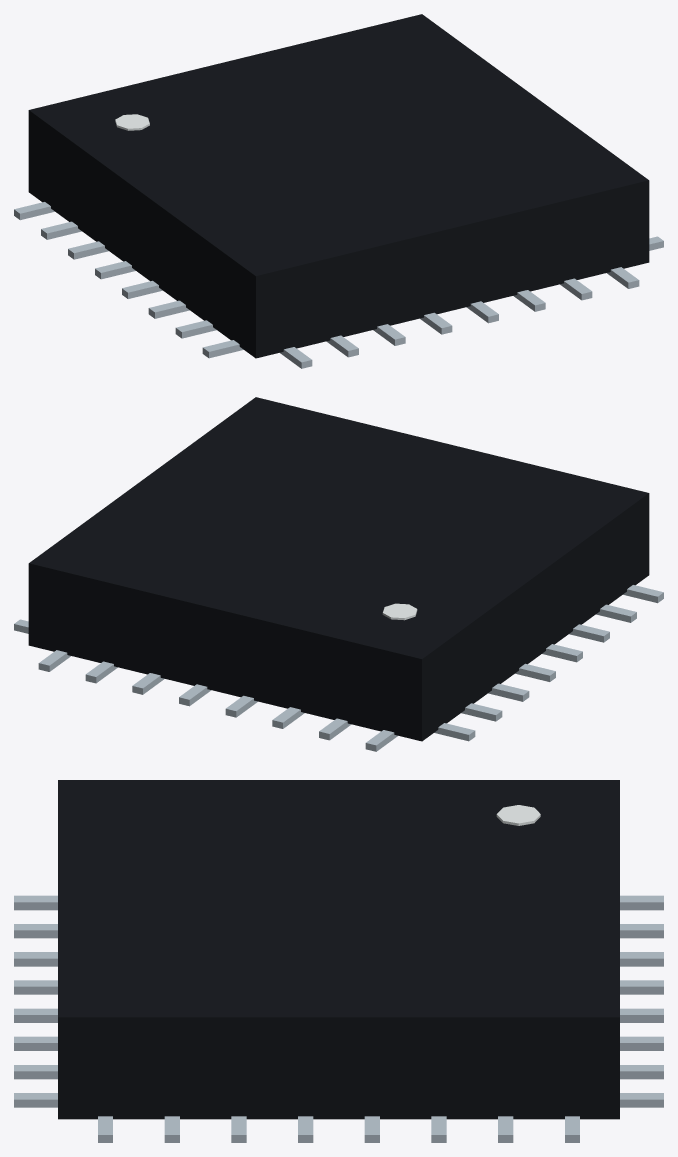
3 views of the same model, one above another, from view 1: azimuth 30°, elevation 25°; view 2: azimuth 150°, elevation 25°; view 3: azimuth 270°, elevation 25° (orthographic). The views are drawn at different scales.
Parts seen in each view (by area): view 1: 012_L106_U5_000; view 2: 012_L106_U5_000; view 3: 012_L106_U5_000, 012_L106_U5_033, 012_L106_U5_002, 012_L106_U5_004, 012_L106_U5_006, 012_L106_U5_008, 012_L106_U5_010, 012_L106_U5_012, 012_L106_U5_014, 012_L106_U5_016, 012_L106_U5_018, 012_L106_U5_020 (+6 smaller).
Boxes of the visible parts, <box> form: 012_L106_U5_000: <box>28,14,649,358</box>; 012_L106_U5_000: <box>28,397,649,741</box>; 012_L106_U5_000: <box>58,780,619,1119</box>; 012_L106_U5_033: <box>496,805,540,825</box>; 012_L106_U5_002: <box>14,895,57,910</box>; 012_L106_U5_004: <box>620,895,663,910</box>; 012_L106_U5_006: <box>14,924,57,938</box>; 012_L106_U5_008: <box>620,924,663,938</box>; 012_L106_U5_010: <box>14,952,57,966</box>; 012_L106_U5_012: <box>620,952,663,966</box>; 012_L106_U5_014: <box>14,980,57,994</box>; 012_L106_U5_016: <box>620,980,663,994</box>; 012_L106_U5_018: <box>14,1008,57,1022</box>; 012_L106_U5_020: <box>620,1008,663,1022</box>.
Size of the model in its own units: 0.0162 by 0.0162 by 0.00304.
